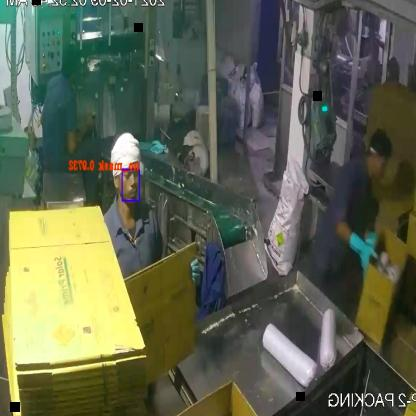glove: (344, 223, 384, 281)
no_glove: (64, 103, 99, 158)
